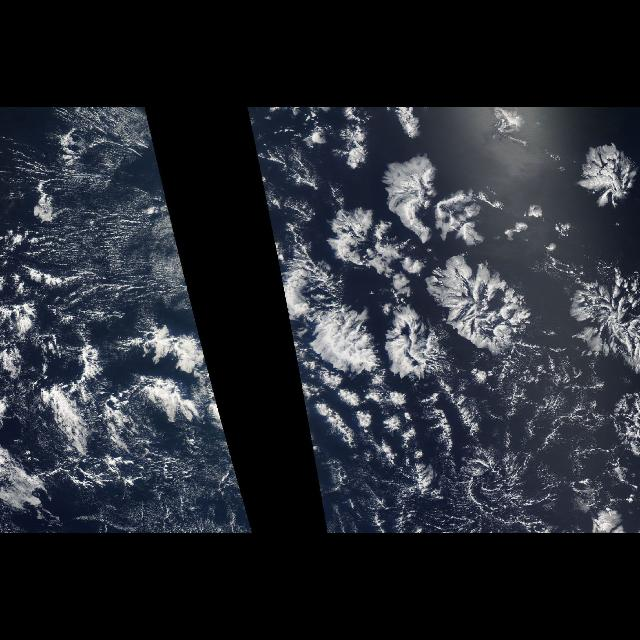Flower: (249, 109, 639, 465)
Sugar: (9, 110, 182, 342)
